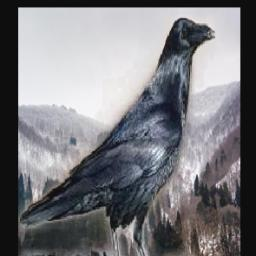Crow: (18, 15, 215, 256)
